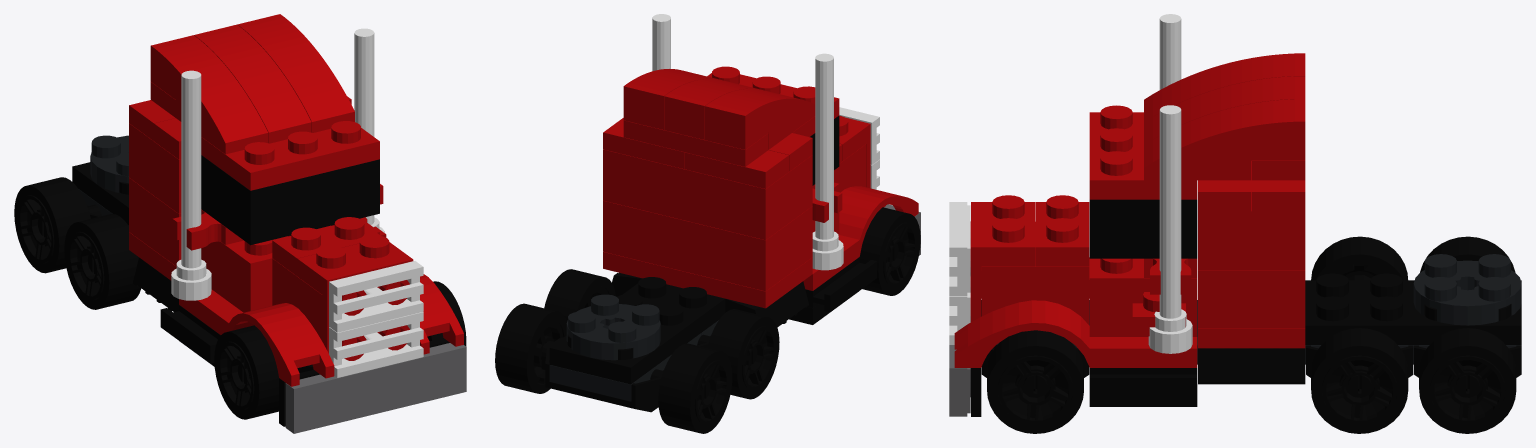
The model's file is trailer.FBX.
3 views of the same model, side by side, from view 1: azimuth 30°, elevation 25°; view 2: azimuth 150°, elevation 25°; view 3: azimuth 270°, elevation 25° (orthographic). The views are drawn at different scales.
Parts seen in each view (by area): view 1: Part-3001; view 2: Part-3001; view 3: Part-3001.
Part boxes in pixels (x1,y1,x2,y2): Part-3001: [14, 14, 466, 433]; Part-3001: [495, 14, 920, 433]; Part-3001: [949, 14, 1521, 433].
Bounding box in the file's own units: 3.87 × 5.15 × 8.48.
